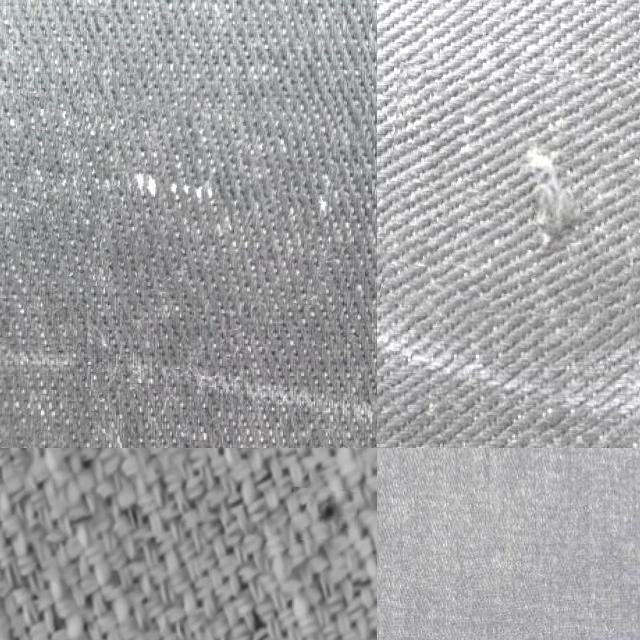other: (290, 488, 357, 542)
stains: (385, 69, 640, 324), (12, 98, 334, 298)
